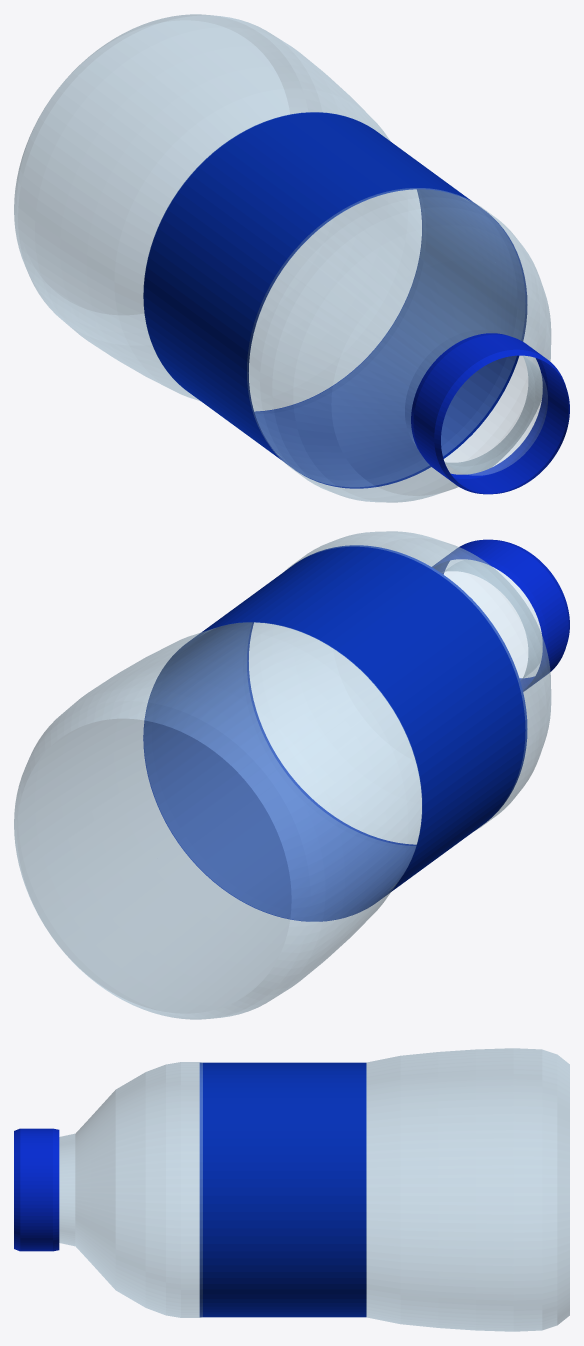
File: aquafina_bottle_3d.obj
3 views of the same model, one above another, from view 1: azimuth 30°, elevation 25°; view 2: azimuth 150°, elevation 25°; view 3: azimuth 270°, elevation 25° (orthographic). The views are drawn at different scales.
Visible parts, largest first — view 1: Bottle; view 2: Bottle; view 3: Bottle.
Boxes of the visible parts, x1,y1,x2,y2 form: Bottle: [14, 14, 569, 502]; Bottle: [14, 531, 569, 1019]; Bottle: [14, 1048, 569, 1331].
Bounding box in the file's own units: 2.26 × 2.26 × 4.43.
